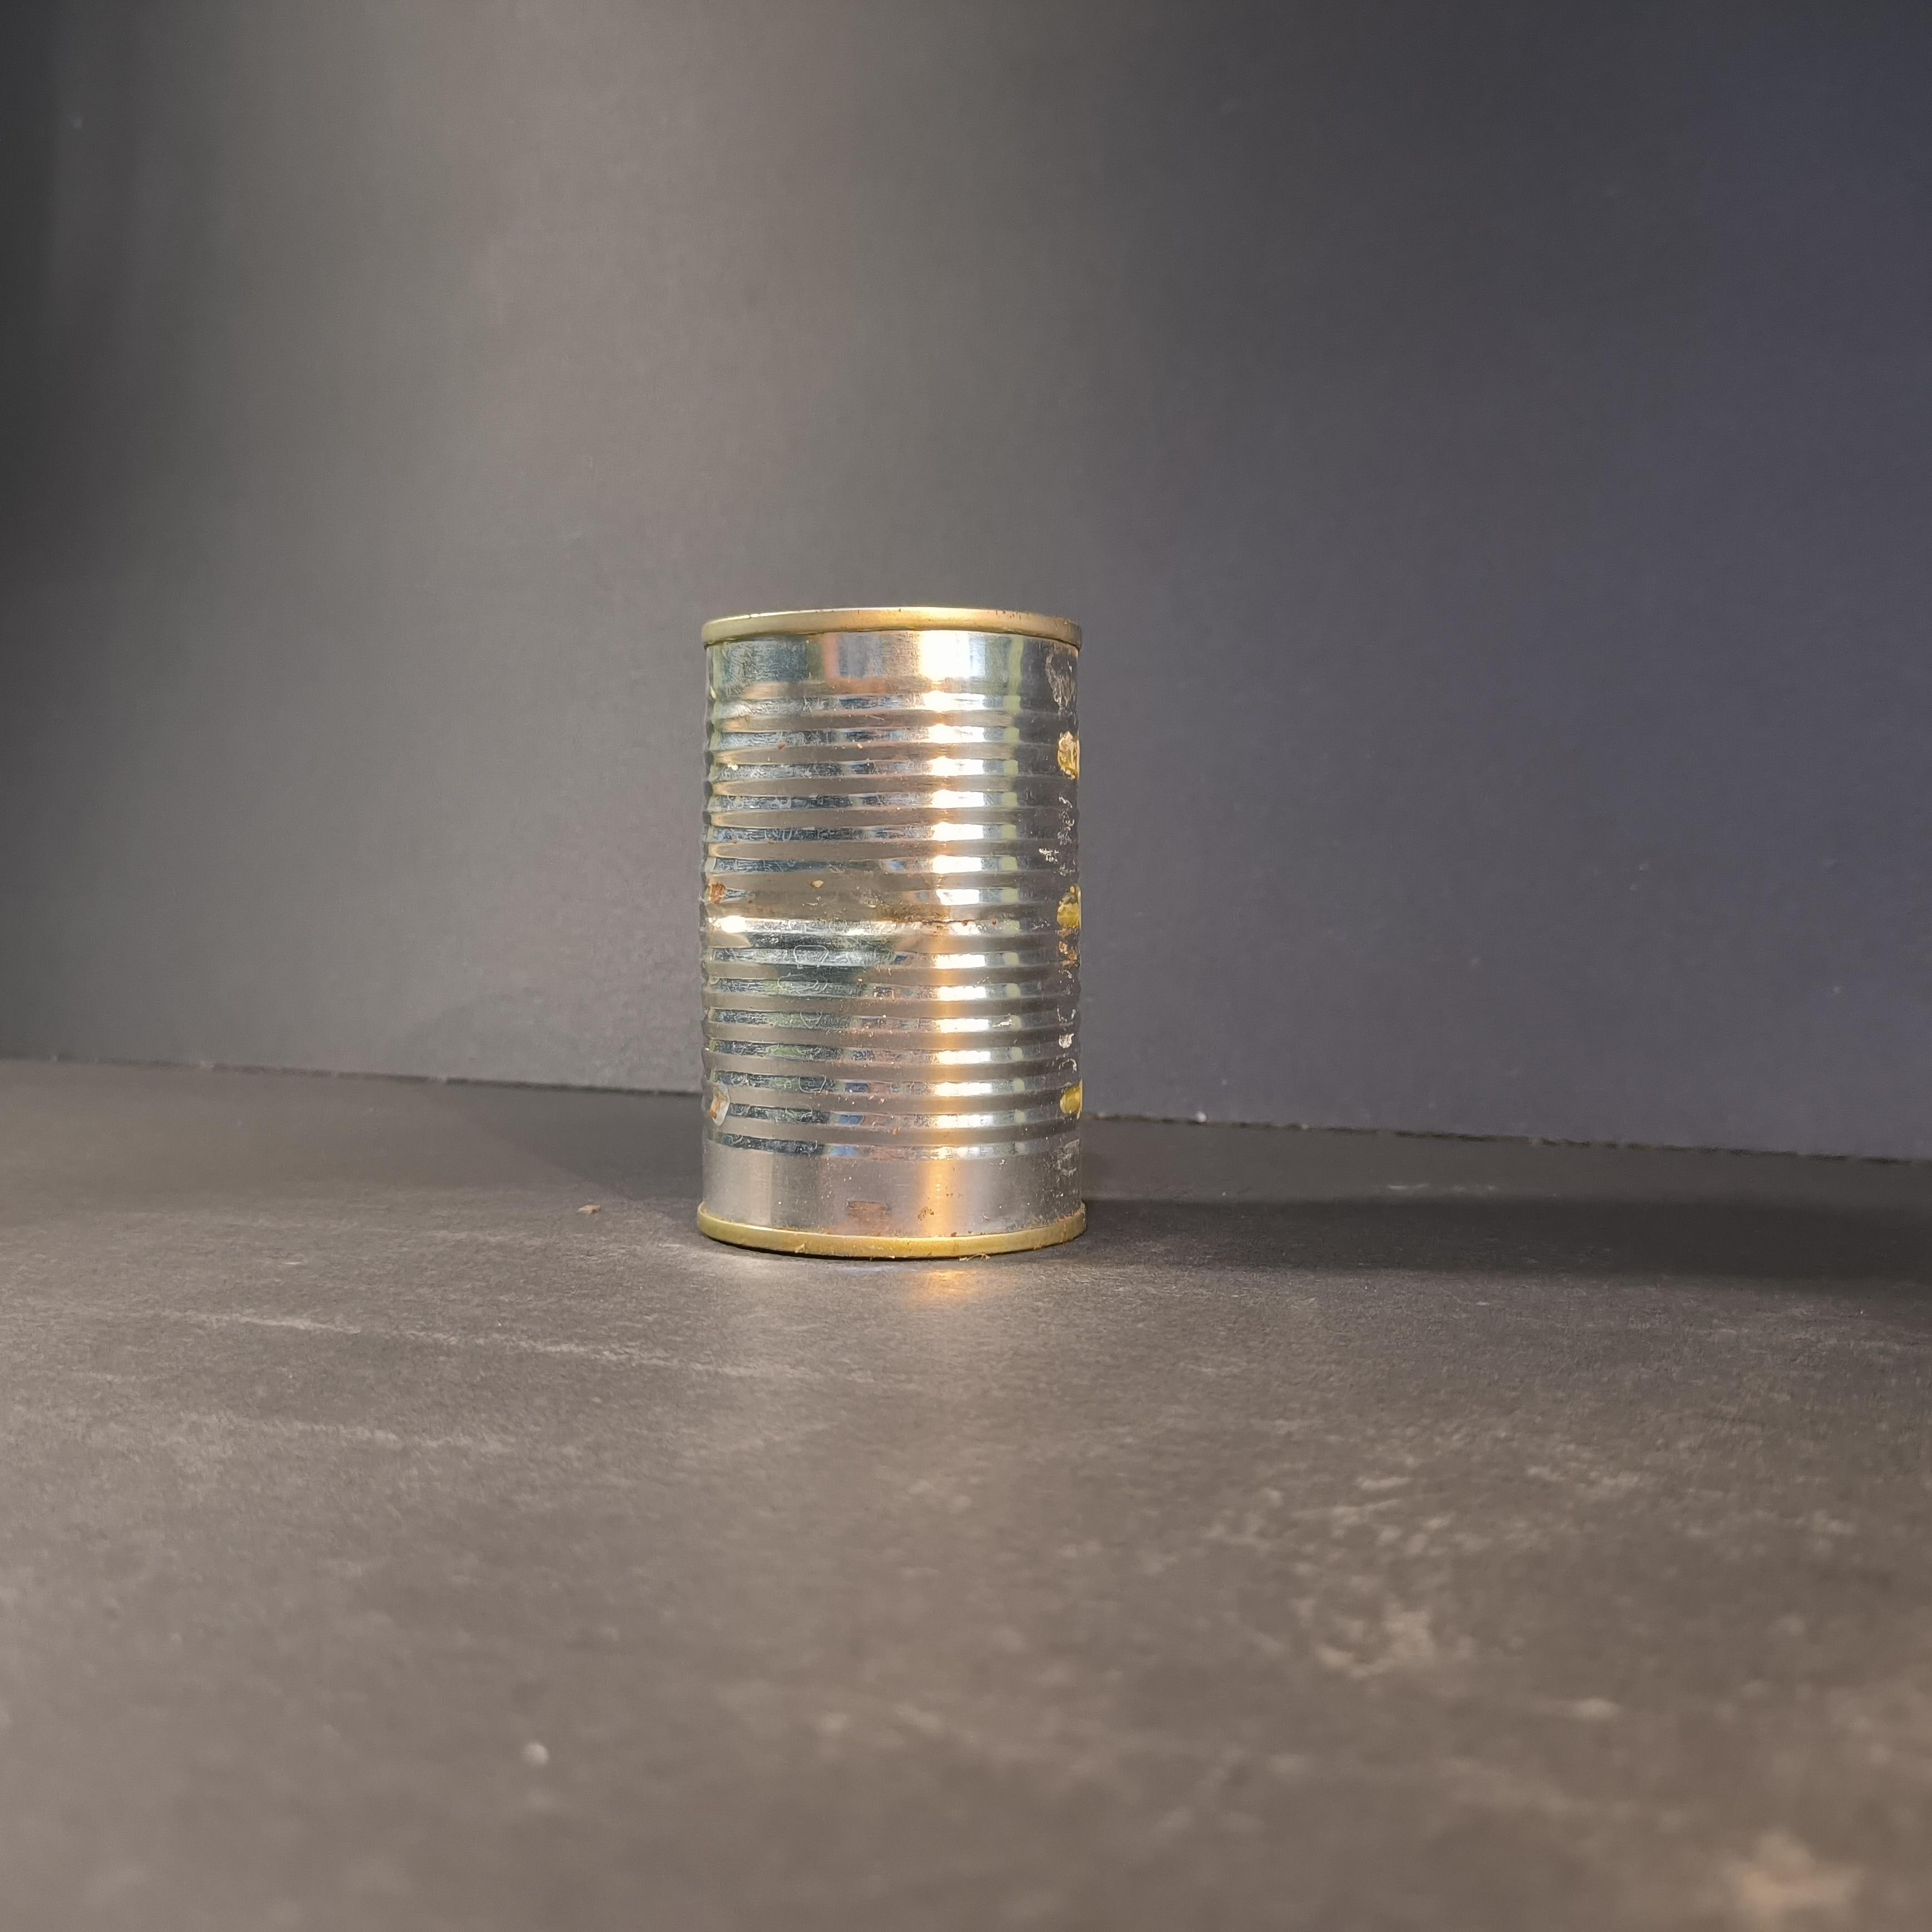Dented: (671, 593, 1123, 1307)
